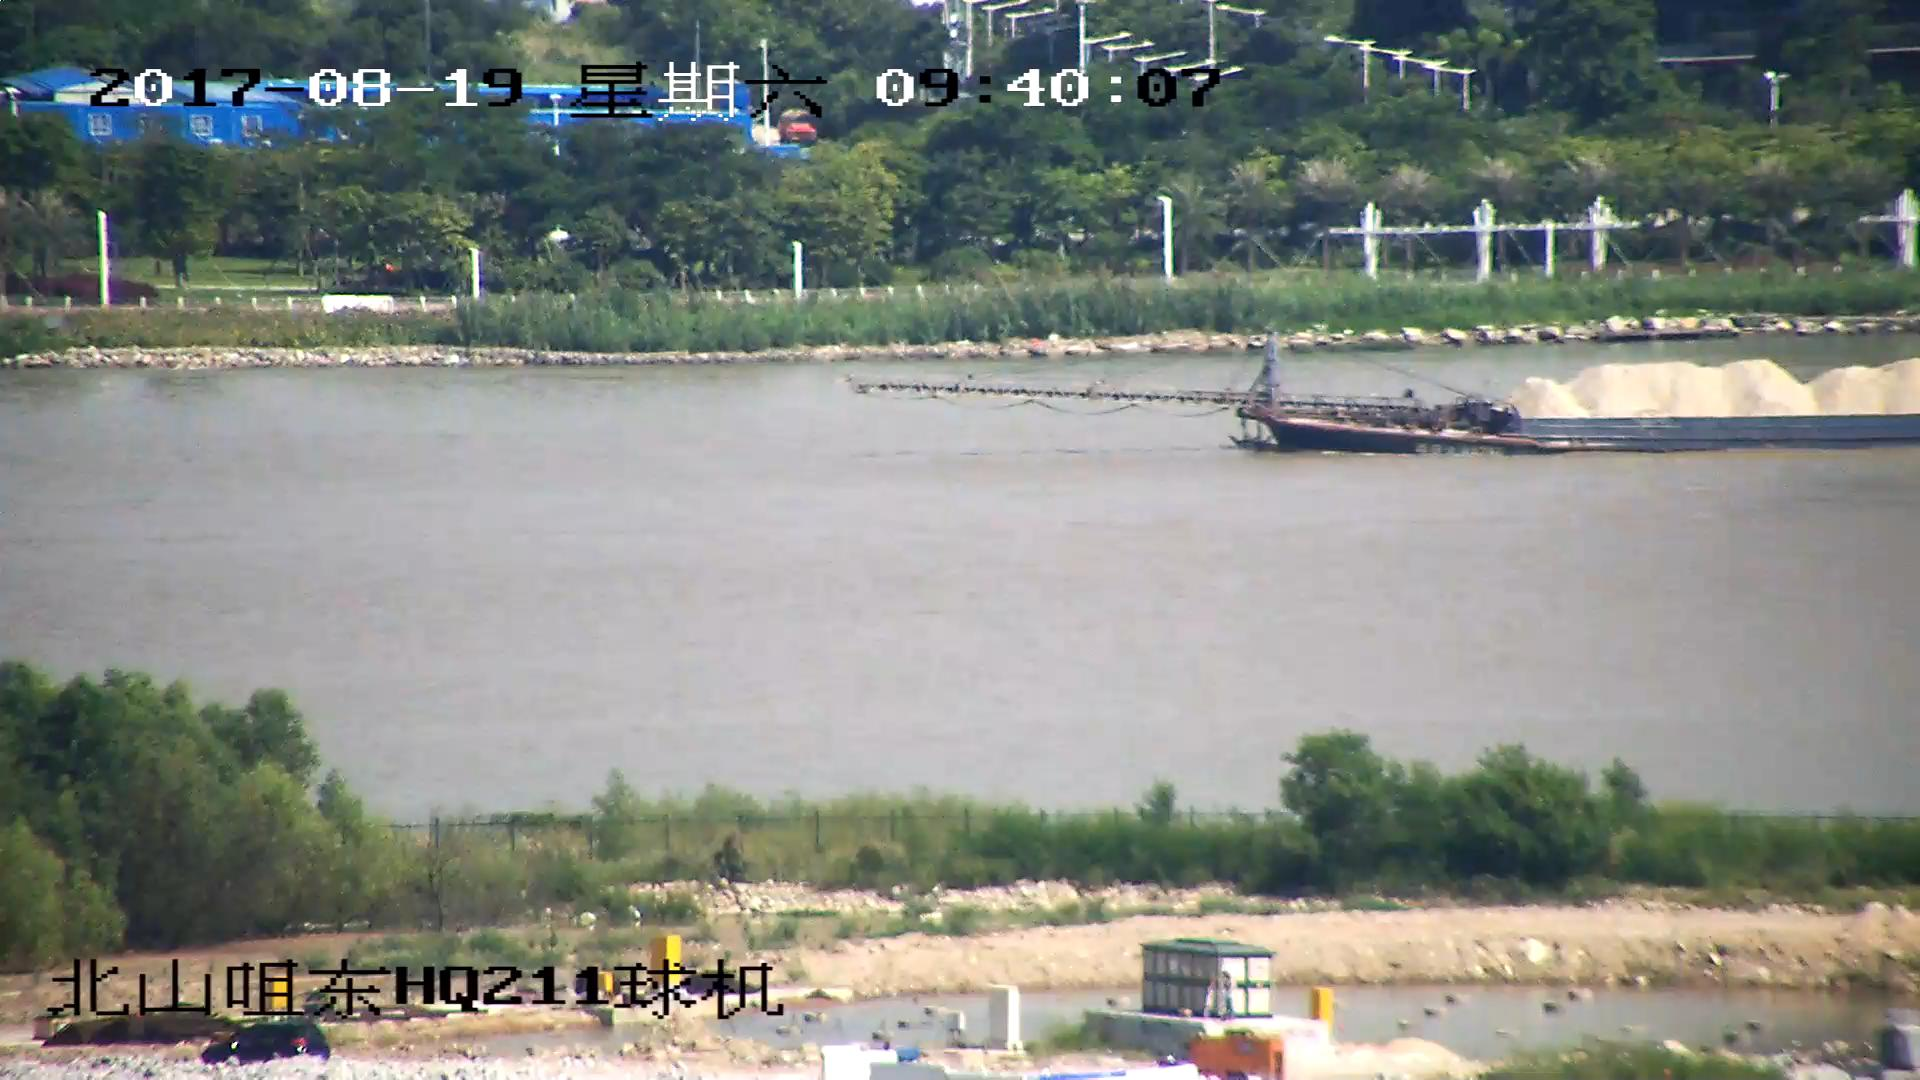ore carrier: (849, 337, 1920, 455)
